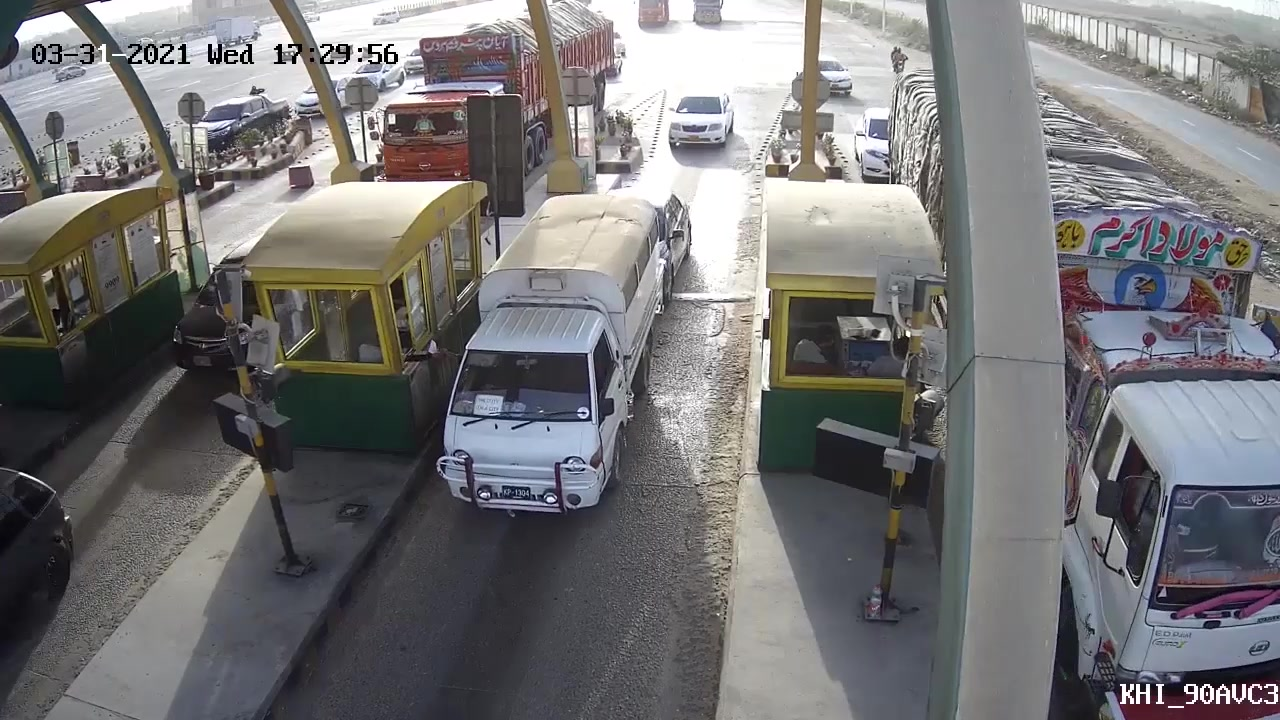F2: (427, 196, 669, 544)
